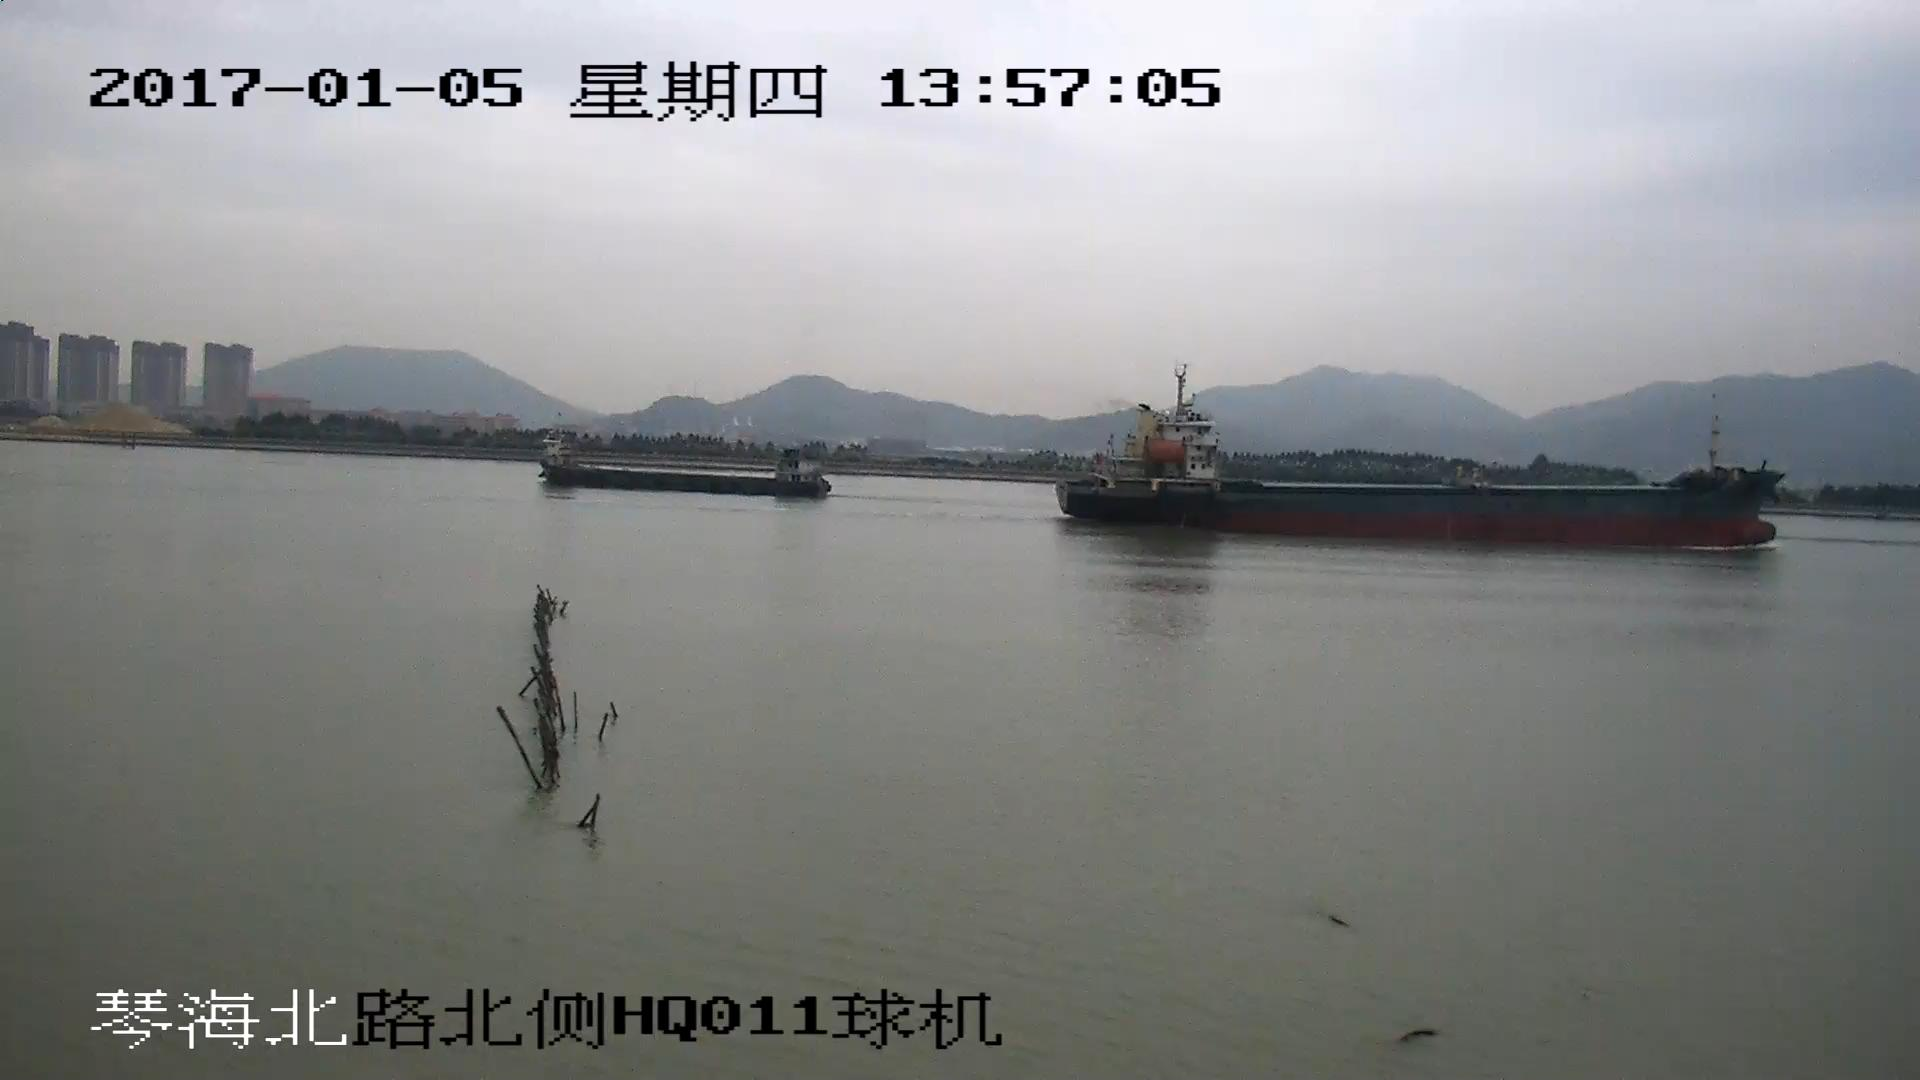general cargo ship: (1055, 375, 1780, 547), (535, 431, 831, 500)
